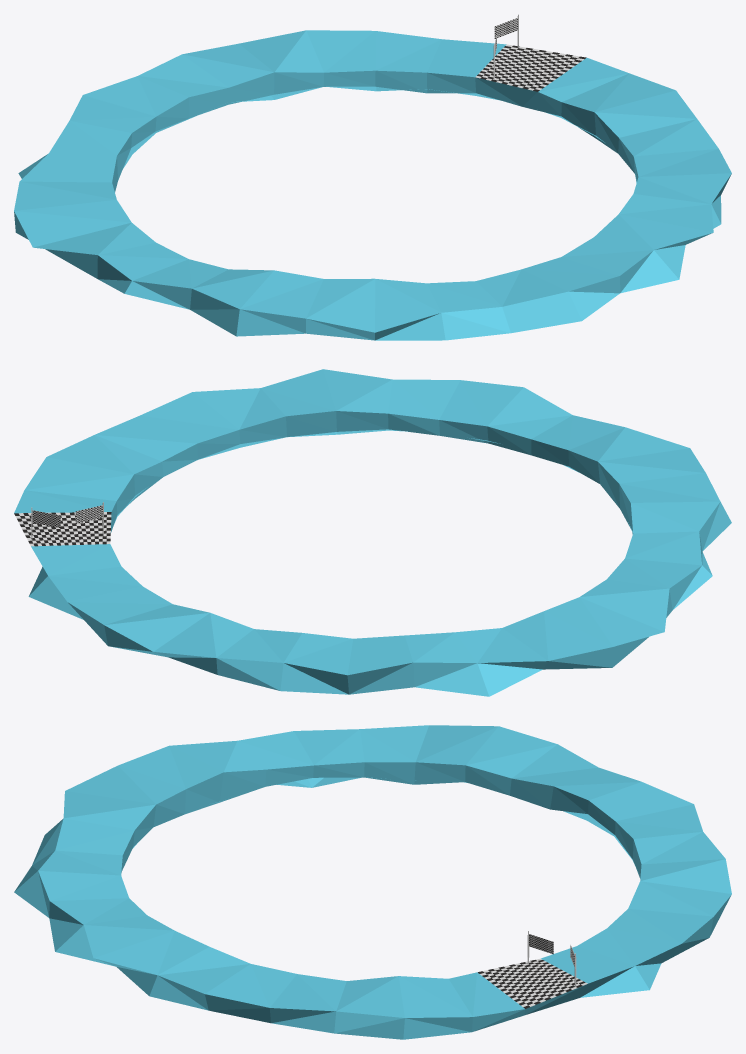
The model's file is newRingFour.fbx.
3 views of the same model, one above another, from view 1: azimuth 30°, elevation 25°; view 2: azimuth 150°, elevation 25°; view 3: azimuth 270°, elevation 25° (orthographic).
Visible parts, largest first — view 1: Cube.010; view 2: Cube.010; view 3: Cube.010.
Boxes of the visible parts, left/top/right/bottom form: Cube.010: left=14, top=14, right=731, bottom=340; Cube.010: left=14, top=369, right=731, bottom=696; Cube.010: left=14, top=725, right=731, bottom=1039.
Size of the model in its own units: 2776 by 244 by 2750.
